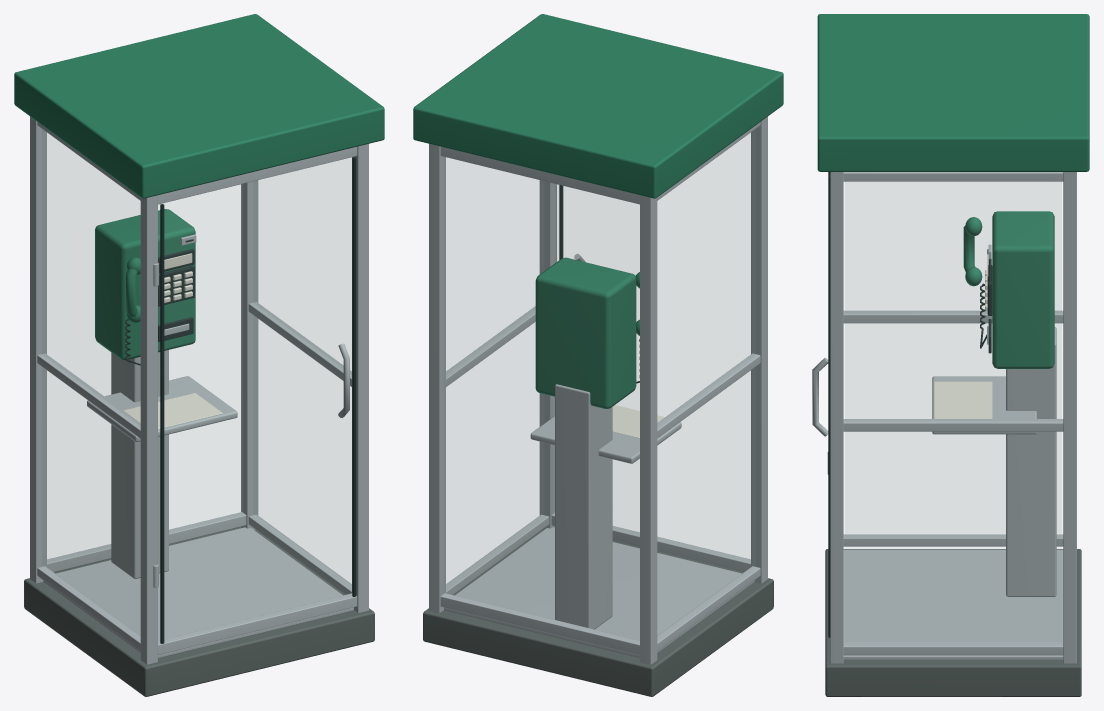
The model's file is S058_phone_booth_photo.glb.
The picture shows the model from 3 angles, left to right: view 1: azimuth 30°, elevation 25°; view 2: azimuth 150°, elevation 25°; view 3: azimuth 270°, elevation 25°; orthographic projection. The views are drawn at different scales.
Parts seen in each view (by area): view 1: Booth_clear_slightly_green_glass, Booth_satin_aluminum, Booth_green_roof_and_payphone, Booth_floor, Booth_seals_and_phone_hardware, Booth_phone_labels; view 2: Booth_clear_slightly_green_glass, Booth_satin_aluminum, Booth_green_roof_and_payphone, Booth_floor, Booth_phone_labels; view 3: Booth_satin_aluminum, Booth_green_roof_and_payphone, Booth_clear_slightly_green_glass, Booth_floor, Booth_phone_labels, Booth_seals_and_phone_hardware.
Boxes of the visible parts, <box> form: Booth_clear_slightly_green_glass: <box>47,133,351,584</box>; Booth_satin_aluminum: <box>30,116,368,664</box>; Booth_green_roof_and_payphone: <box>14,14,384,360</box>; Booth_floor: <box>24,526,374,696</box>; Booth_seals_and_phone_hardware: <box>125,157,356,643</box>; Booth_phone_labels: <box>123,253,222,429</box>; Booth_clear_slightly_green_glass: <box>446,133,750,584</box>; Booth_satin_aluminum: <box>429,116,767,664</box>; Booth_green_roof_and_payphone: <box>413,14,783,408</box>; Booth_floor: <box>423,530,773,696</box>; Booth_phone_labels: <box>612,405,664,437</box>; Booth_satin_aluminum: <box>812,172,1076,663</box>; Booth_green_roof_and_payphone: <box>817,14,1089,368</box>; Booth_clear_slightly_green_glass: <box>845,182,1061,533</box>; Booth_floor: <box>825,549,1081,696</box>; Booth_phone_labels: <box>934,254,992,418</box>; Booth_seals_and_phone_hardware: <box>828,172,992,637</box>.
Size of the model in its own units: 0.76 by 1.6 by 0.7133.
